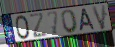7: (46, 10, 59, 37)
A: (79, 7, 97, 32)
O: (61, 9, 80, 34), (14, 15, 32, 40)
V: (91, 4, 107, 32)
Z: (29, 12, 50, 39)
